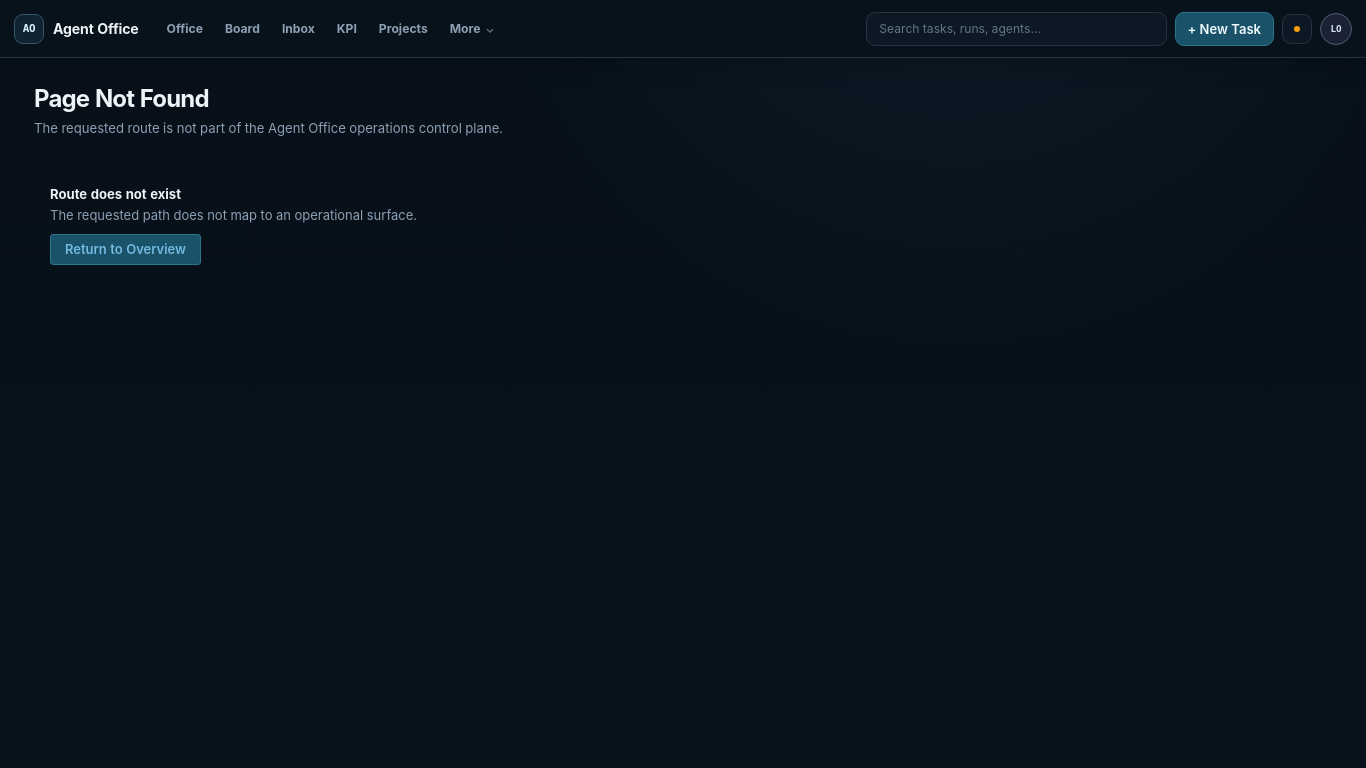
it: Agent Office operational shell › displays not found page with a recovery link
Expected: the heading "Page Not Found" is shown, [34, 84, 209, 113]
Click the link "Return to Overview". click: (126, 249)
box: [50, 234, 201, 264]
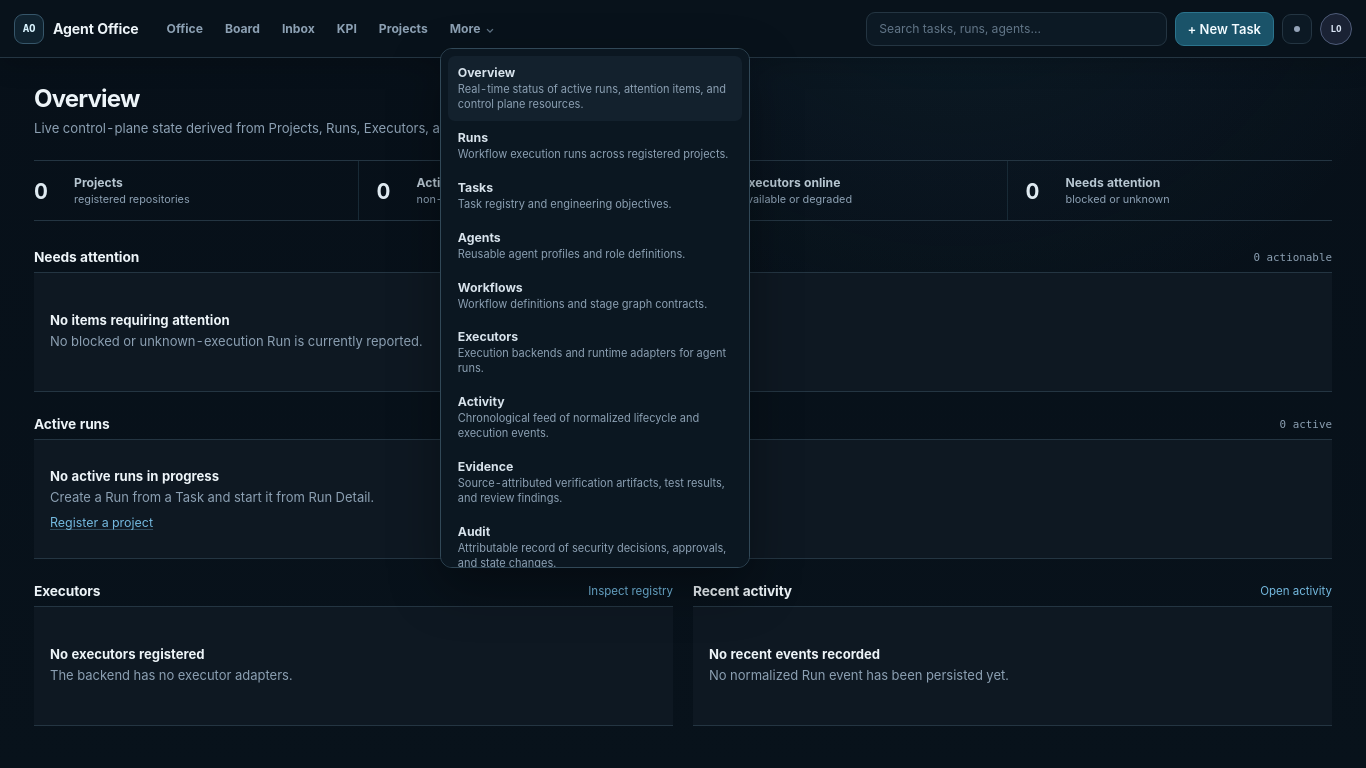
Now the heading "Overview" is shown, box [34, 84, 140, 113]
